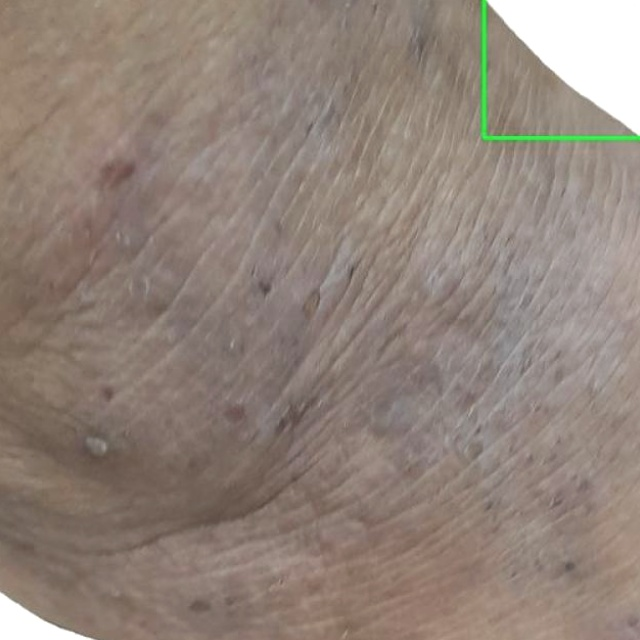Contact Dermatitis: (484, 0, 639, 137)
